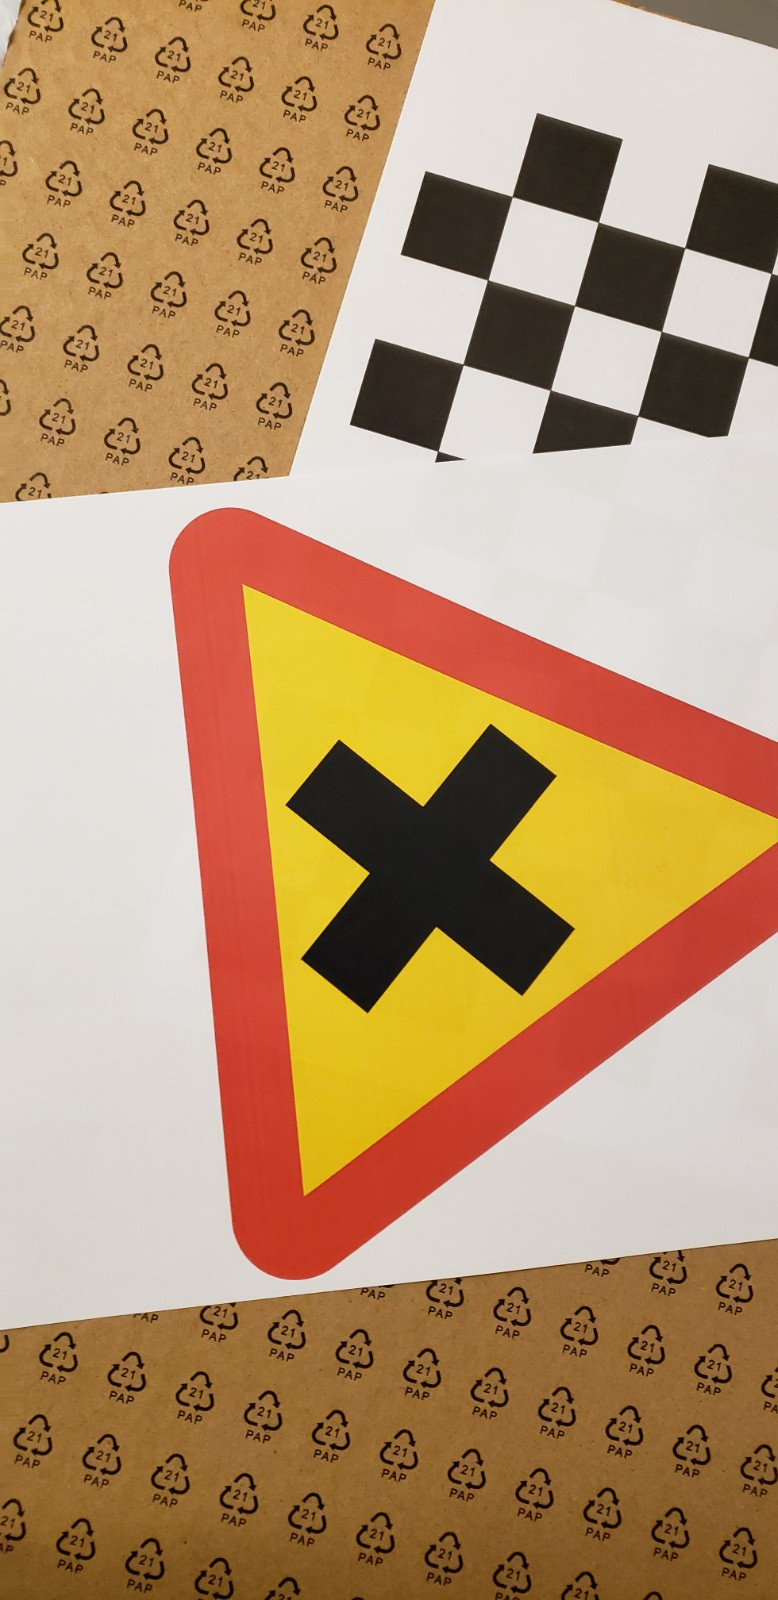junction: (143, 496, 778, 1247)
